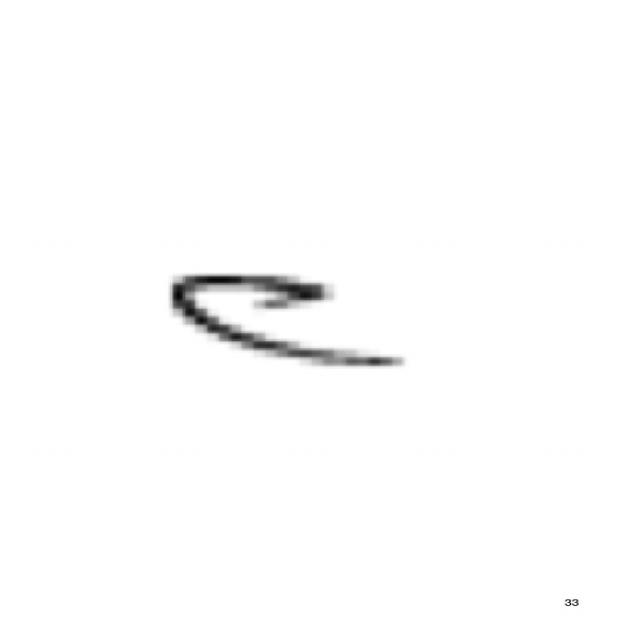2 -two-: (154, 253, 416, 381)
